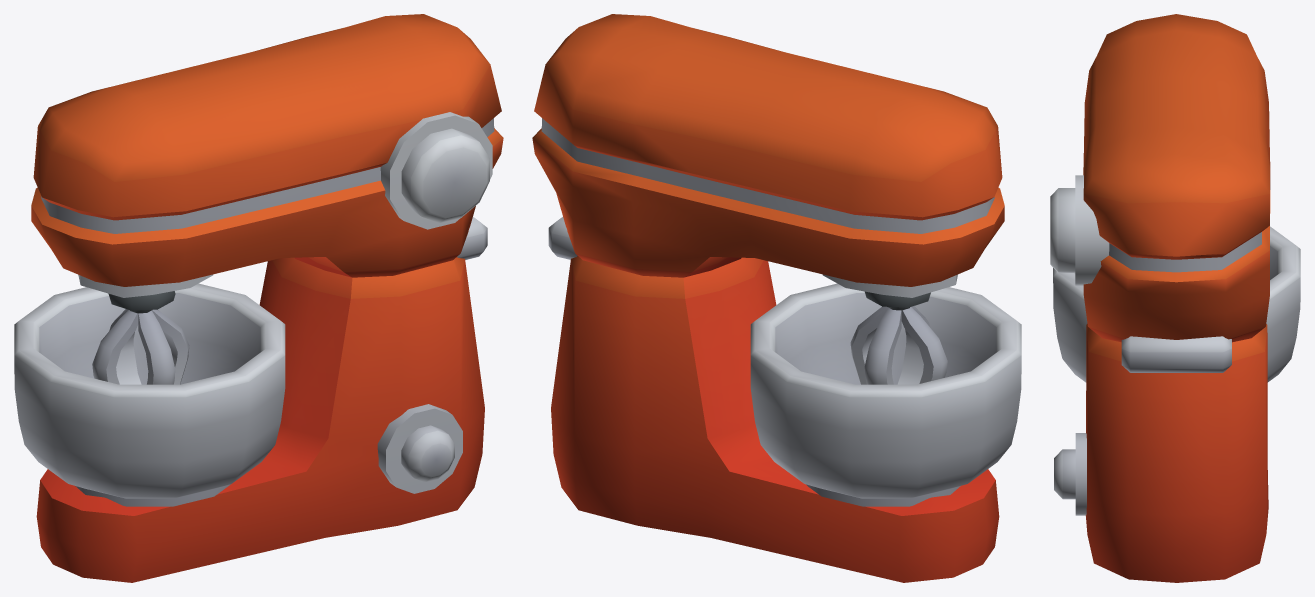
Rendered from stand-mixer.glb.
The picture shows the model from 3 angles, left to right: view 1: azimuth 30°, elevation 25°; view 2: azimuth 150°, elevation 25°; view 3: azimuth 270°, elevation 25°; orthographic projection. The views are drawn at different scales.
Parts seen in each view (by area): view 1: stand_mixer, stand_mixer_arm, stand_mixer_whisk; view 2: stand_mixer, stand_mixer_arm, stand_mixer_whisk; view 3: stand_mixer_arm, stand_mixer.
Boxes of the visible parts, x1,y1,x2,y2 form: stand_mixer: (14, 217, 487, 582); stand_mixer_arm: (31, 14, 503, 297); stand_mixer_whisk: (92, 291, 189, 384); stand_mixer: (548, 217, 1021, 582); stand_mixer_arm: (532, 14, 1004, 297); stand_mixer_whisk: (850, 291, 947, 384); stand_mixer_arm: (1050, 14, 1270, 342); stand_mixer: (1053, 226, 1300, 582).
Bounding box in the file's own units: 1.06 × 1 × 0.5562.
1 material, 1 textured.
